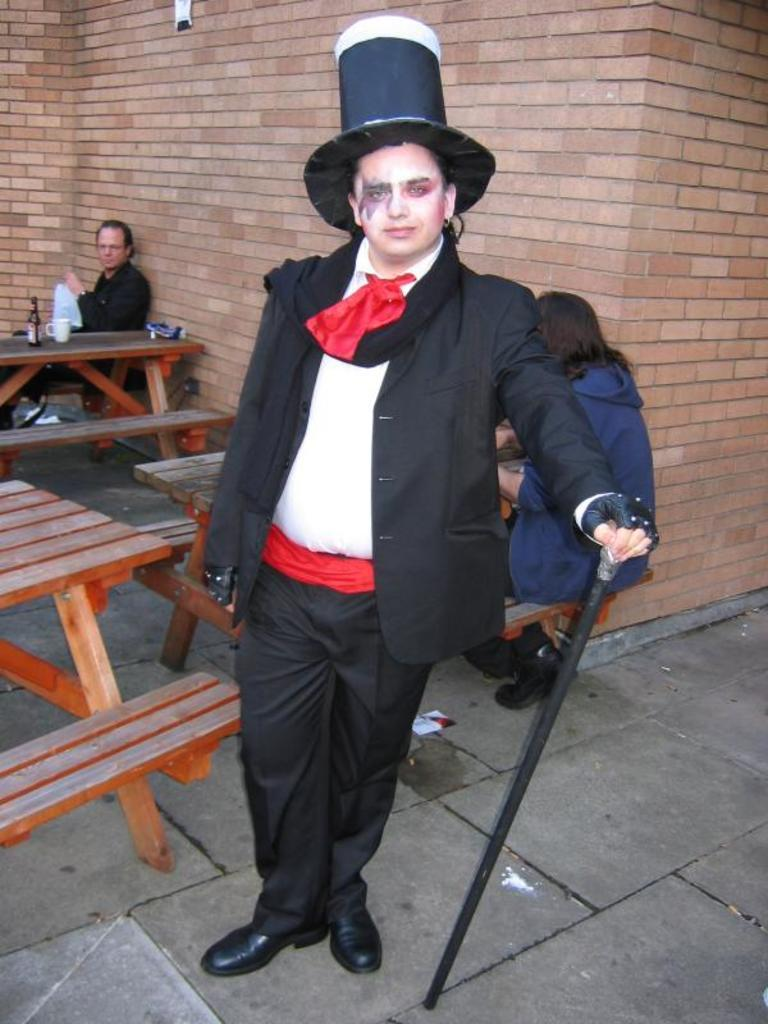Hat: (299, 14, 494, 232)
